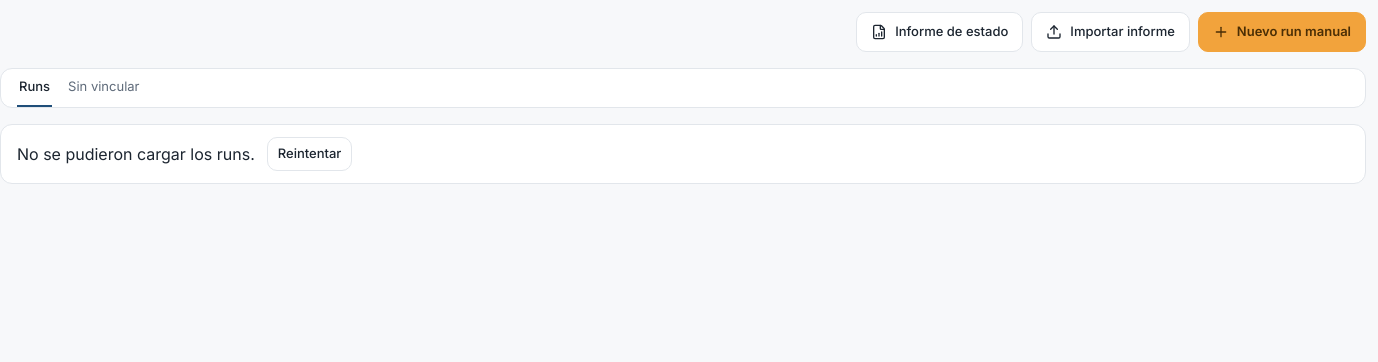
RunsPage › says when the runs cannot be loaded and retries
Check: the message shows "No se pudieron cargar los runs.", box [17,144,255,164]
Click the button "Reintentar": [310, 154] box [267,136,352,170]
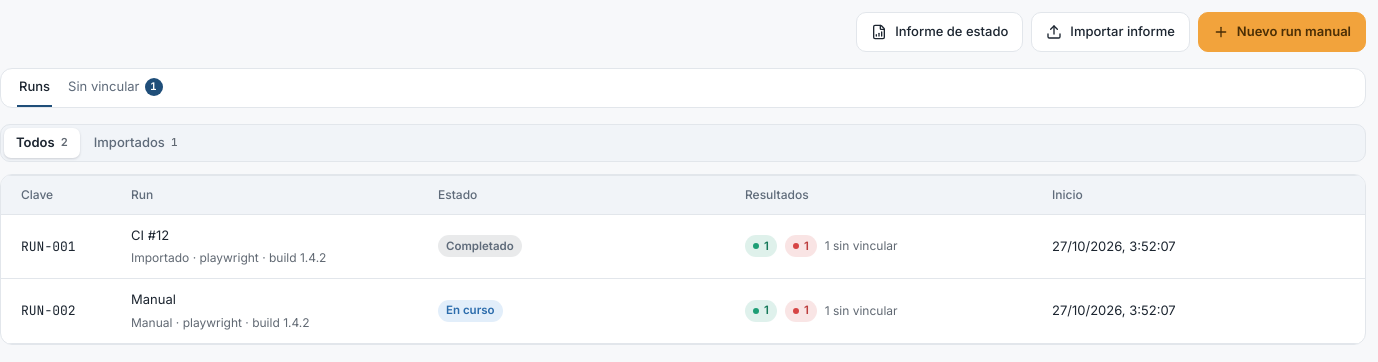
Check: the table named "Runs" is shown, box [1,174,1365,344]
